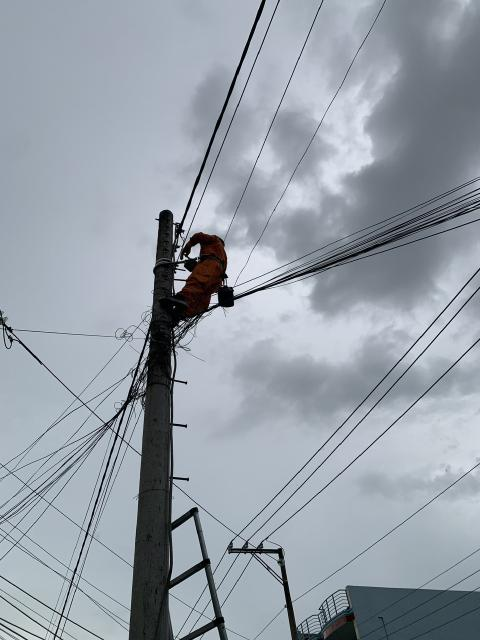gloves: (180, 242, 192, 256)
harness: (200, 251, 228, 269)
helmet: (211, 233, 227, 246)
shoes: (165, 290, 190, 310)
